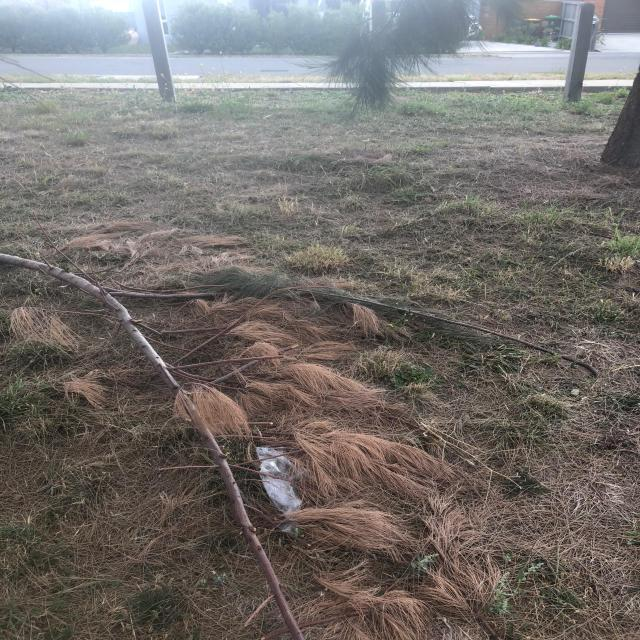litter: (255, 445, 301, 518)
